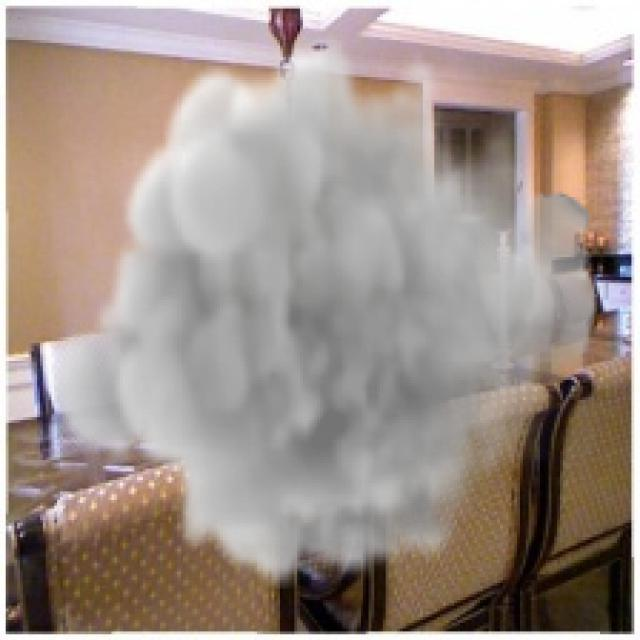Smoke: (43, 34, 600, 589)
